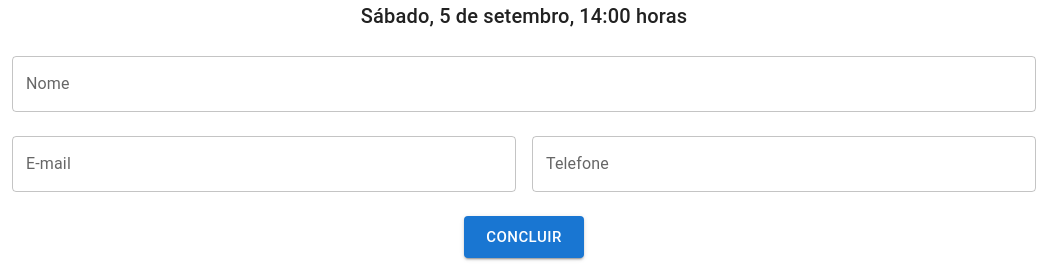
Test case: ScheduleForm › masks the phone as it is typed
Type "11988788756" into the field labelled "Telefone". click: (784, 164)
box: top-left (532, 136), bottom-right (1036, 192)
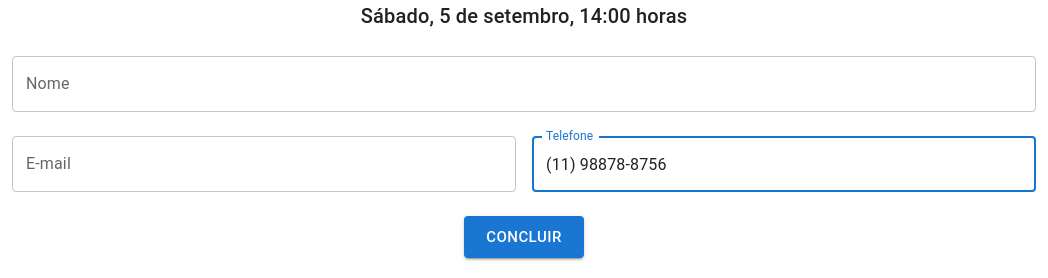
Expected: the field labelled "Telefone" holds "(11) 98878-8756", top-left (532, 136), bottom-right (1036, 192)
